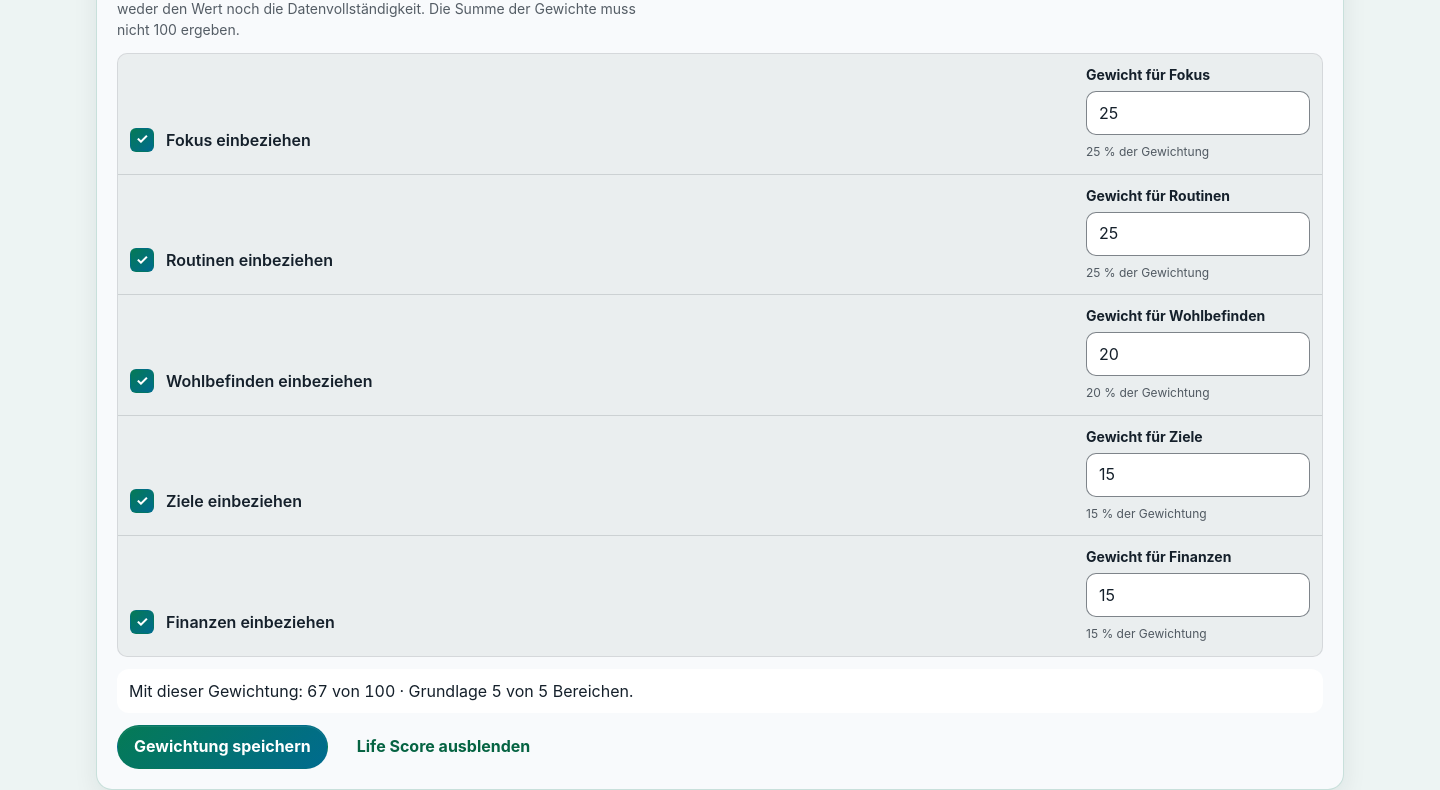
it: InsightsPage – Bereiche und Gewichtung › treats a switched-off area as a decision, not as a gap
The image size is (1440, 790).
(page scrolled)
Click the checkbox labelled "Finanzen einbeziehen" at (142, 622), box top-left (130, 610), bottom-right (154, 634)
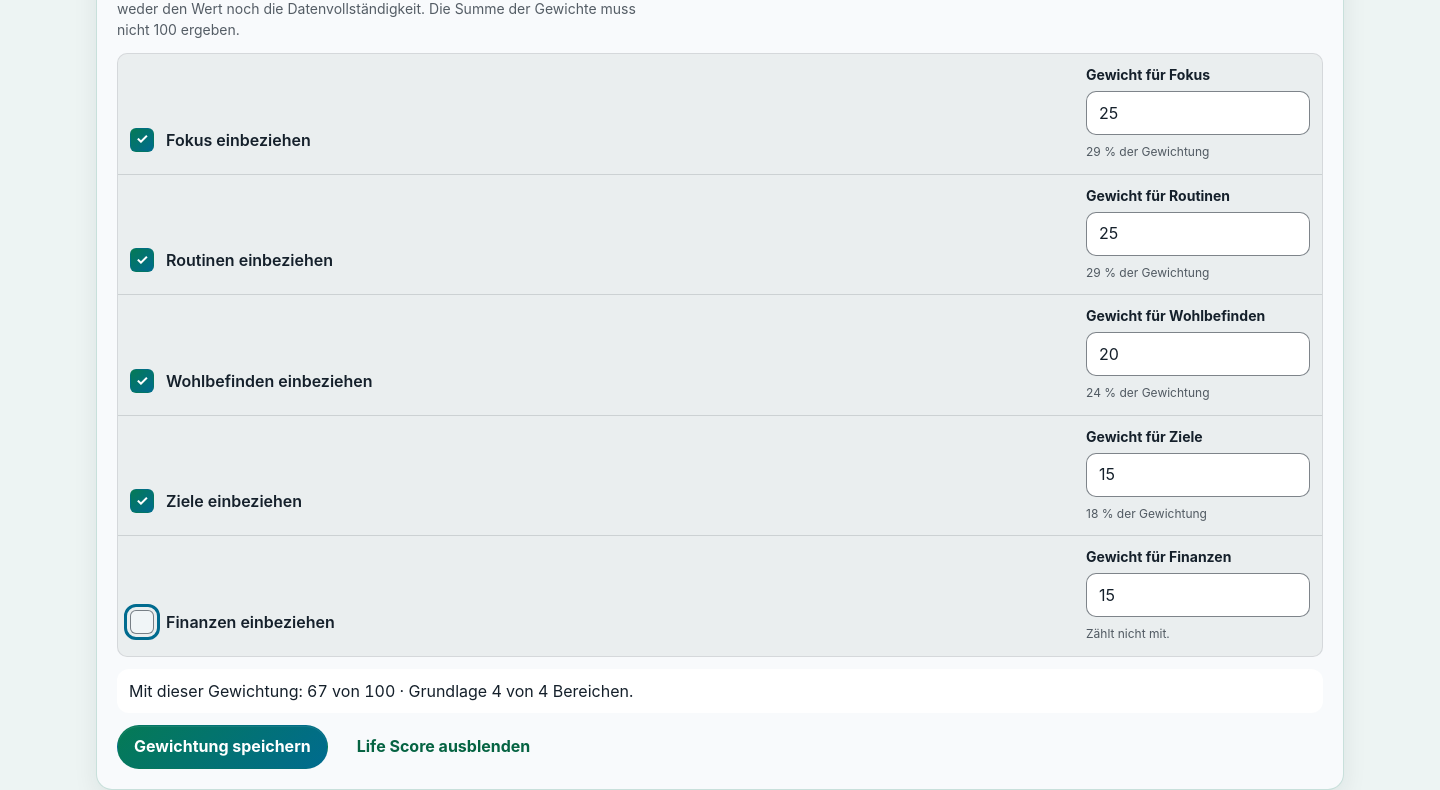
Click the button "Gewichtung speichern" at (222, 747), box top-left (117, 725), bottom-right (328, 769)
(page scrolled)
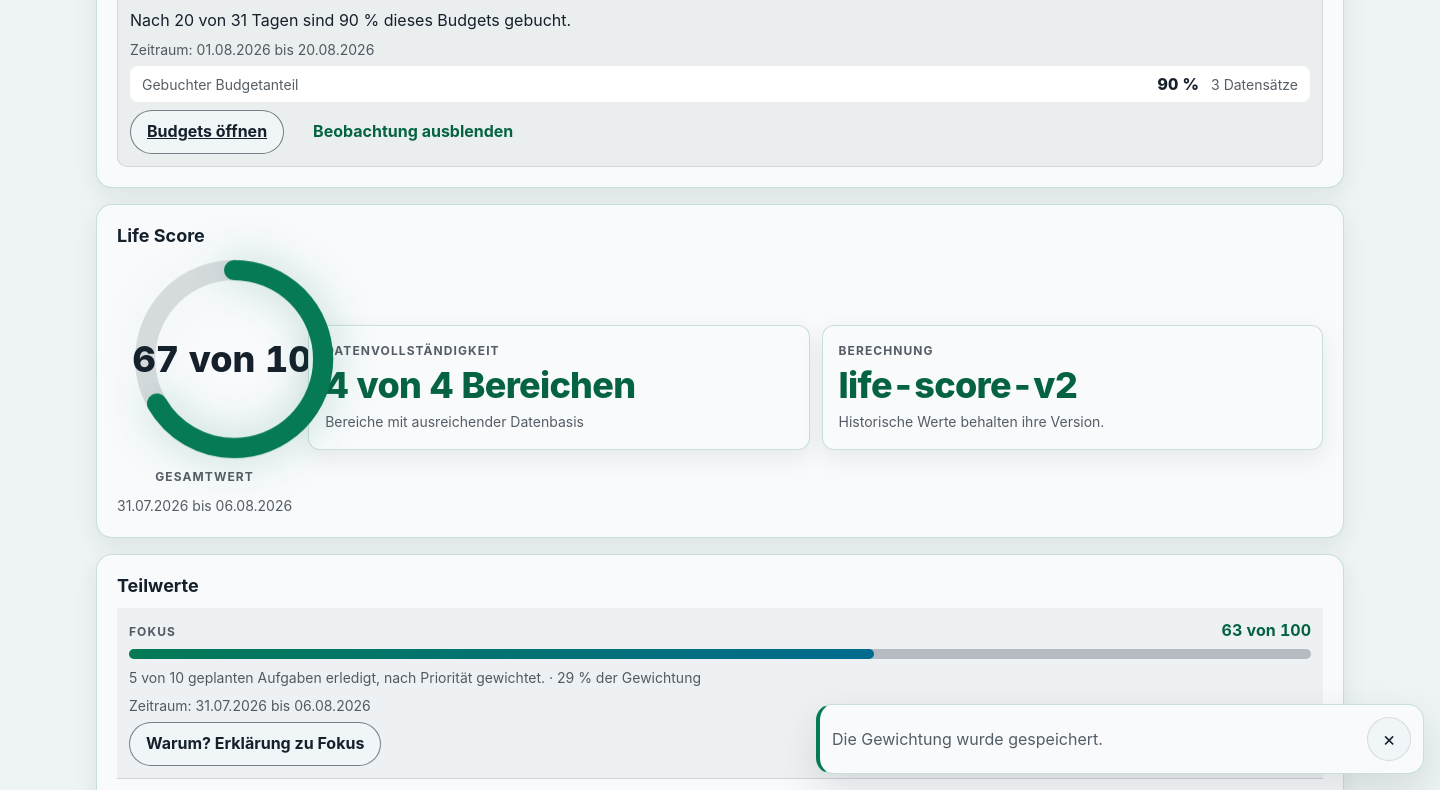
Expected: the text "67 von 100" is shown, top-left (133, 338), bottom-right (335, 381)
Expected: the text "4 von 4 Bereichen" is shown, top-left (325, 363), bottom-right (635, 407)
